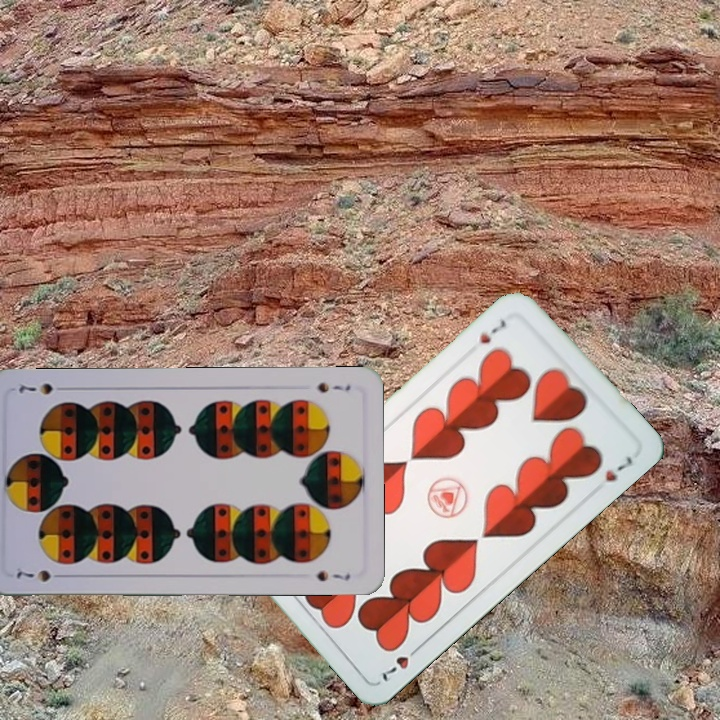H7: (377, 641, 425, 684), (474, 315, 509, 347)
S7: (12, 565, 68, 584), (314, 379, 353, 396)
